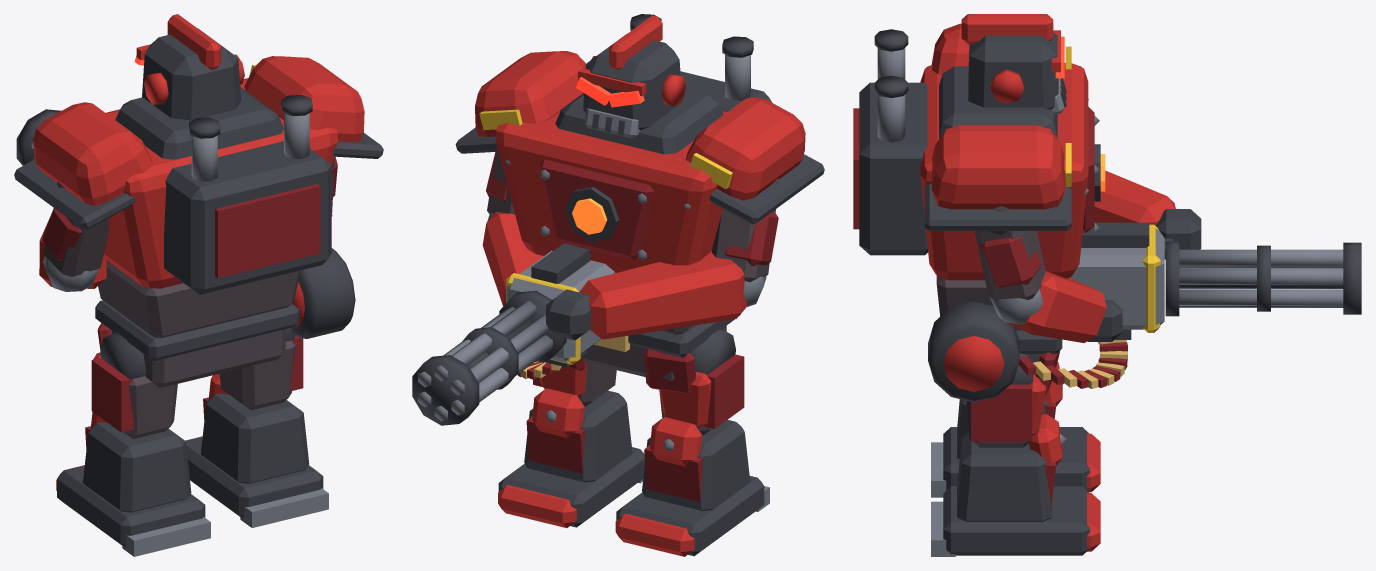
File: boss.glb
3 renders of one model, left to right at view 1: azimuth 30°, elevation 25°; view 2: azimuth 150°, elevation 25°; view 3: azimuth 270°, elevation 25°, orthographic. The views are drawn at different scales.
Visible parts, largest first — view 1: body, leg_L, leg_R; view 2: body, leg_L, leg_R; view 3: body, leg_R, leg_L.
Boxes of the visible parts, left/top/right/bottom form: body: left=14, top=14, right=383, bottom=387; leg_L: left=56, top=333, right=210, bottom=556; leg_R: left=185, top=328, right=328, bottom=527; body: left=412, top=14, right=824, bottom=425; leg_L: left=615, top=329, right=769, bottom=556; leg_R: left=498, top=361, right=644, bottom=527; body: left=853, top=14, right=1361, bottom=402; leg_R: left=931, top=353, right=1100, bottom=556; leg_L: left=931, top=362, right=1100, bottom=497.
Size of the model in its own units: 2.37 by 3.56 by 3.33.
